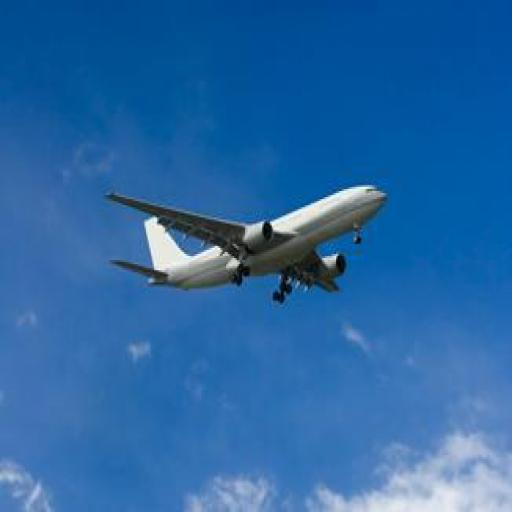aircraft: (106, 185, 386, 304)
